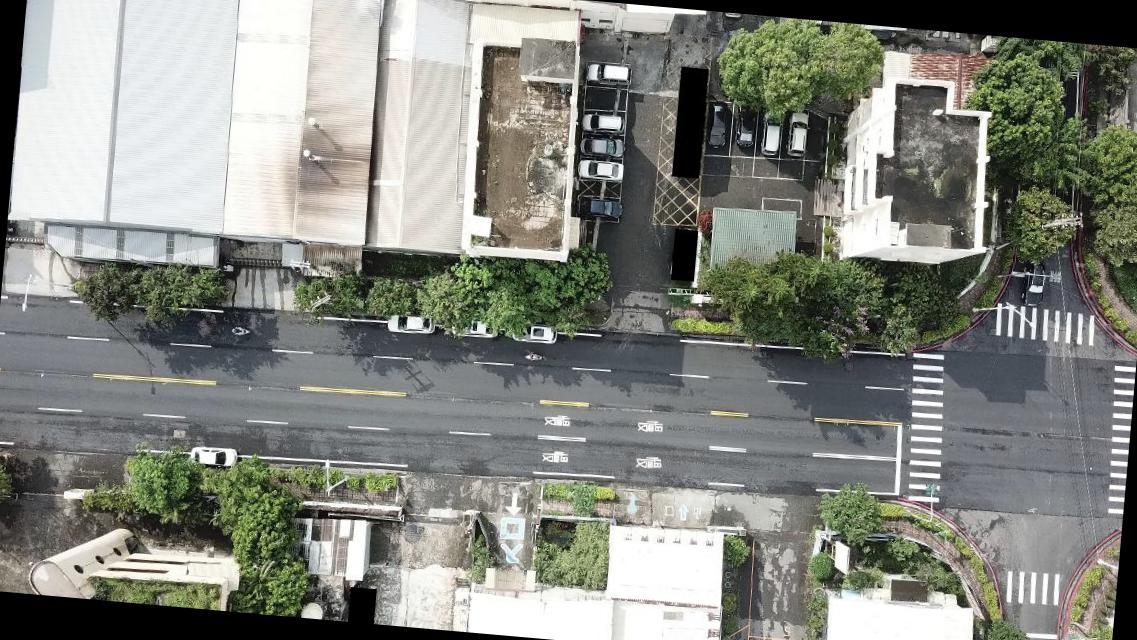vehicle: (382, 310, 437, 338), (584, 58, 632, 88), (1019, 260, 1047, 308), (578, 108, 625, 135), (188, 444, 236, 469), (576, 134, 624, 158), (510, 320, 556, 345), (577, 157, 622, 182), (574, 196, 622, 219), (786, 111, 809, 158), (449, 316, 496, 338), (707, 102, 730, 146), (761, 110, 783, 156), (734, 106, 756, 148)
